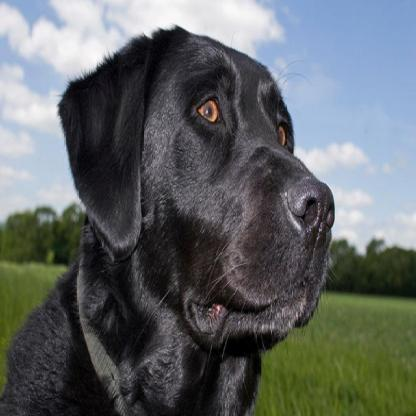dog: (0, 24, 335, 415)
